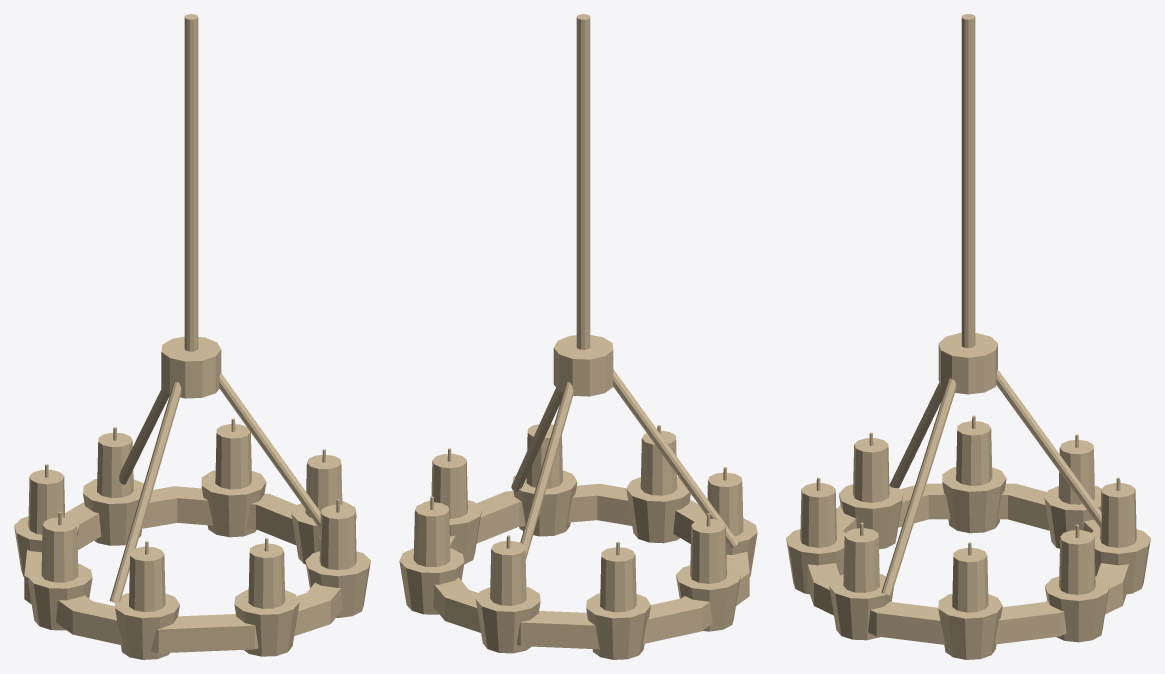
The model's file is Chandelier.fbx.
3 views of the same model, side by side, from view 1: azimuth 30°, elevation 25°; view 2: azimuth 150°, elevation 25°; view 3: azimuth 270°, elevation 25° (orthographic).
Parts seen in each view (by area): view 1: Chandelier; view 2: Chandelier; view 3: Chandelier.
Boxes of the visible parts, left/top/right/bottom form: Chandelier: left=14, top=14, right=370, bottom=659; Chandelier: left=399, top=14, right=757, bottom=659; Chandelier: left=786, top=14, right=1150, bottom=659.
Bounding box in the file's own units: 40.46 × 69.5 × 40.46.
